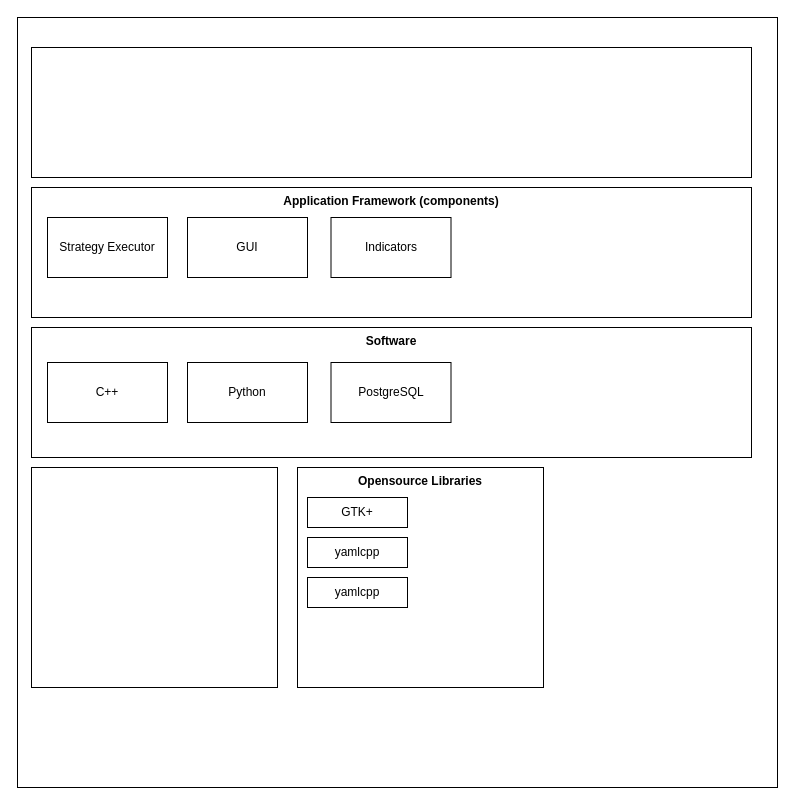
The diagram is 795 pixels wide and 805 high, and some of its shapes have lost their labels. Each missing label, with the centre of its shape:
"Application" goes at (391,112).
"Native Libraries" goes at (154,577).
